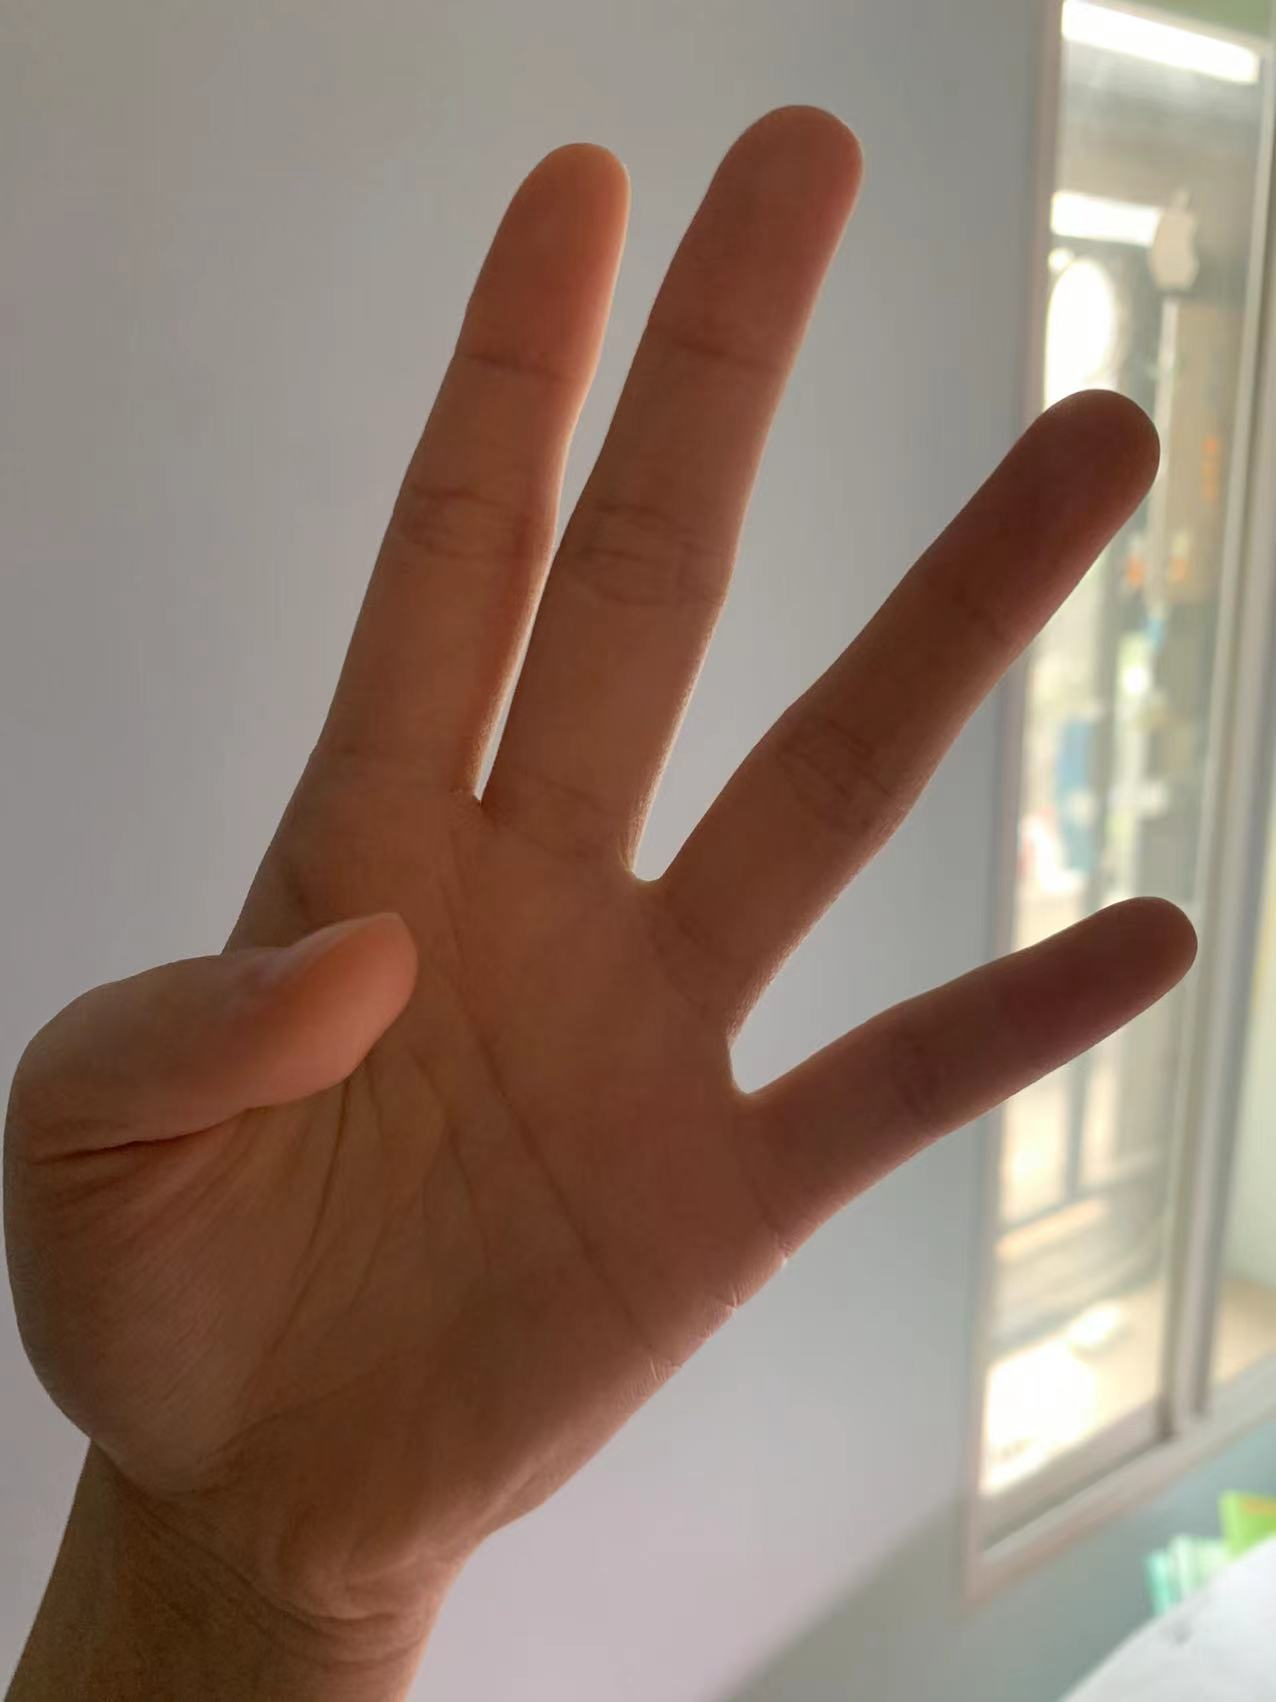right: (20, 99, 1276, 1504)
